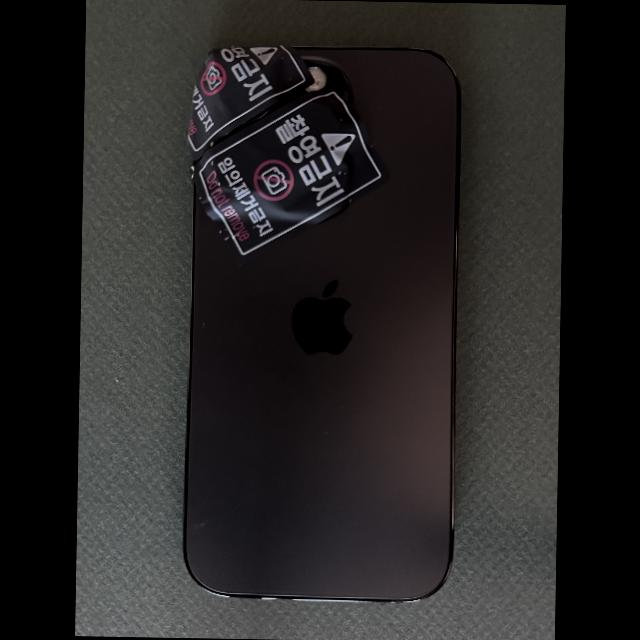lens: (247, 110, 268, 122)
phone: (182, 45, 461, 603)
sticker: (188, 81, 390, 266), (186, 45, 314, 160)
